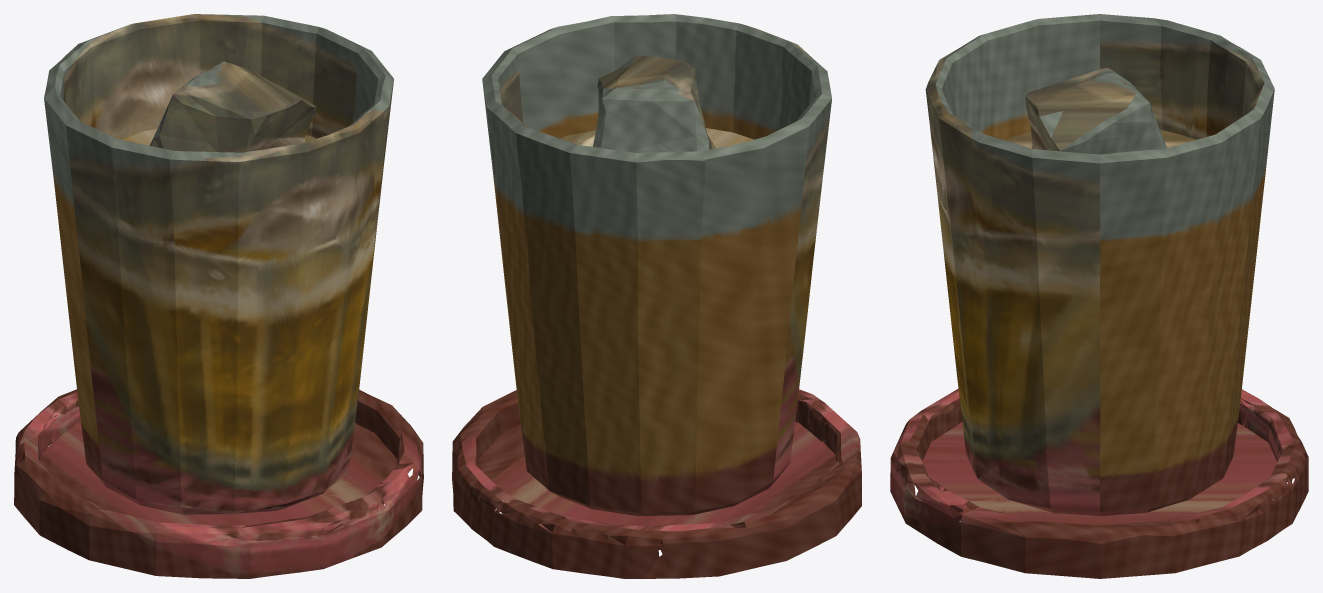
The model's file is beer_glass_ice_reduced.glb.
3 renders of one model, left to right at view 1: azimuth 30°, elevation 25°; view 2: azimuth 150°, elevation 25°; view 3: azimuth 270°, elevation 25°, orthographic.
Parts seen in each view (by area): view 1: CoveredSurface; view 2: CoveredSurface; view 3: CoveredSurface.
Boxes of the visible parts, <box> form: CoveredSurface: <box>14,14,423,578</box>; CoveredSurface: <box>452,14,861,578</box>; CoveredSurface: <box>890,14,1308,578</box>.
Bounding box in the file's own units: 1.8 × 1.99 × 1.83.
1 material, 1 textured.
